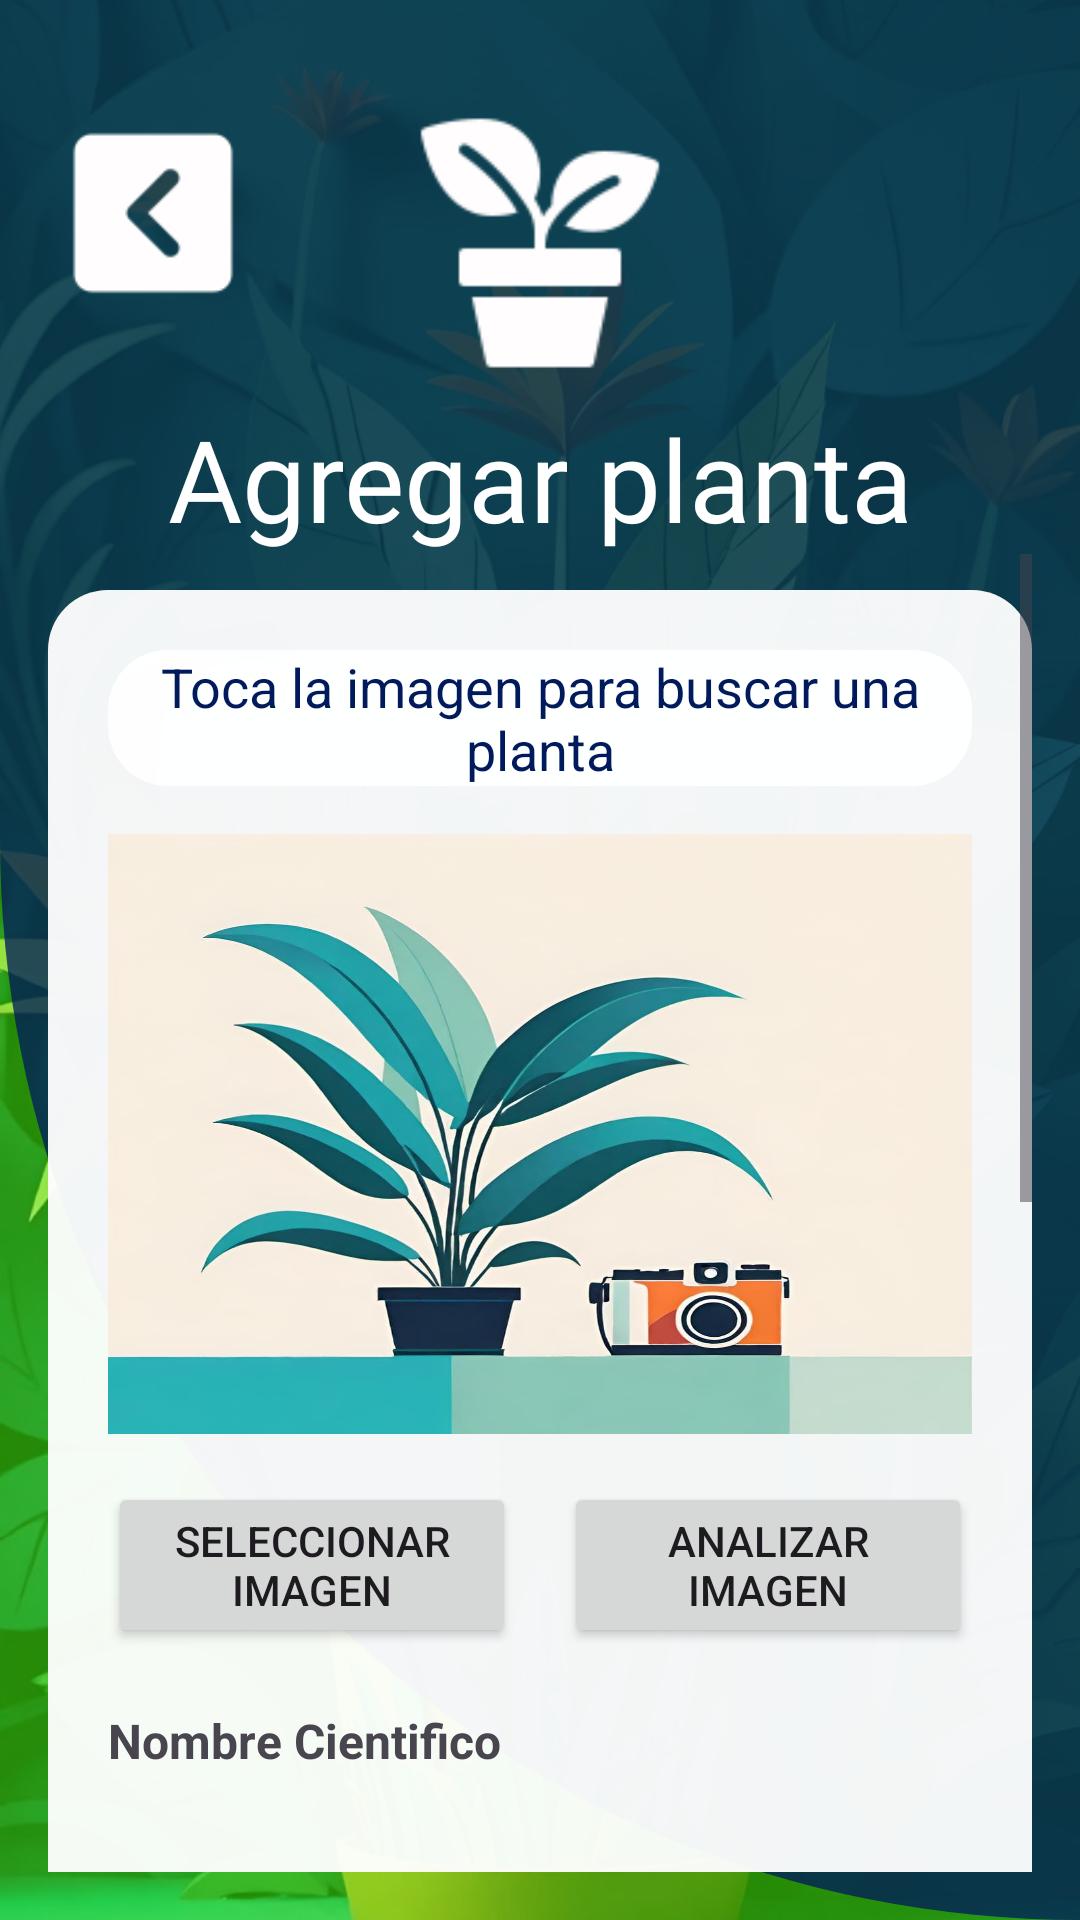

Icon bounding boxes for this 1080w x 1920h phone screenshot, format (x1, y1, x2, y2):
maceta: (420, 118, 660, 378)
